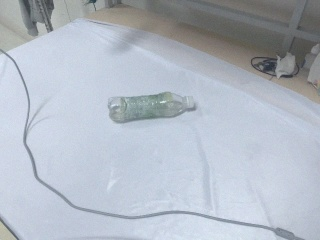bottle: (108, 91, 196, 123)
